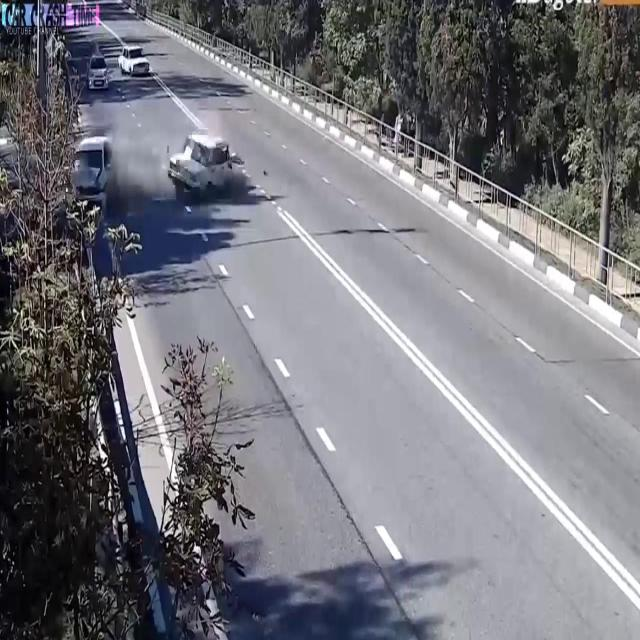accident: (60, 124, 258, 232)
non_accident: (80, 34, 154, 106)
